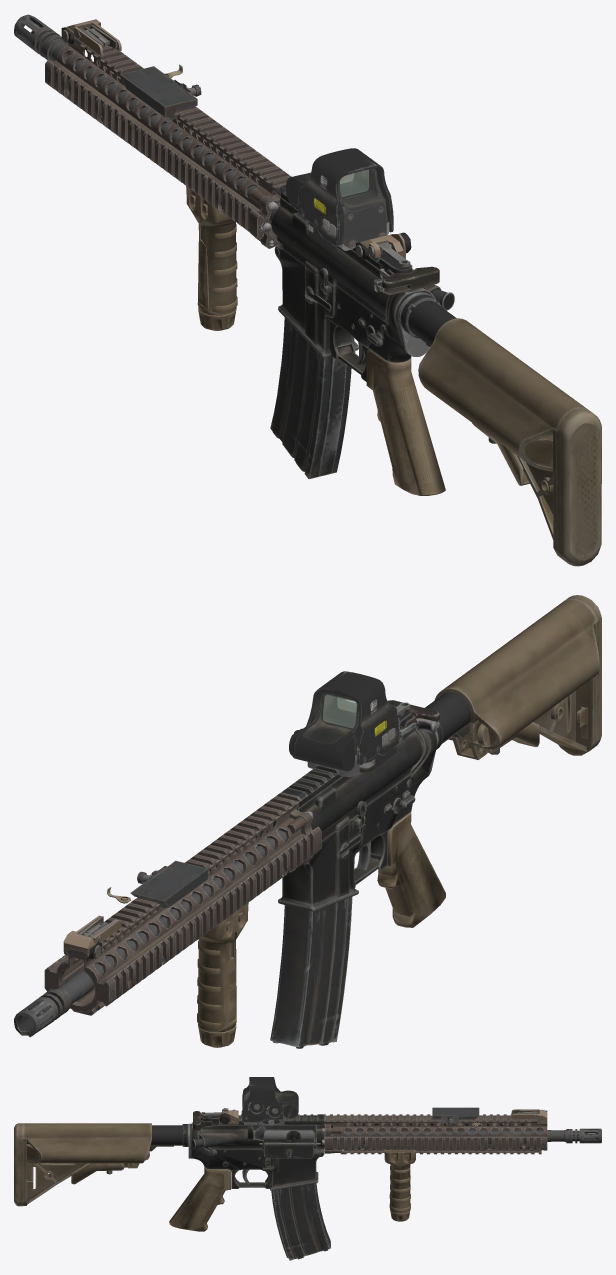
The model's file is m4a1-47K2JQHQ.glb.
3 renders of one model, top to bottom at view 1: azimuth 30°, elevation 25°; view 2: azimuth 150°, elevation 25°; view 3: azimuth 270°, elevation 25°, orthographic. The views are drawn at different scales.
Parts seen in each view (by area): view 1: body, mag; view 2: body, mag; view 3: body, mag.
Part boxes in pixels (x1,y1,x2,y2): body: [14, 14, 601, 566]; mag: [270, 318, 351, 478]; body: [14, 595, 601, 1047]; mag: [270, 896, 352, 1048]; body: [14, 1077, 601, 1231]; mag: [271, 1183, 330, 1260].
Bounding box in the file's own units: 0.0714 × 0.278 × 0.84.
5 materials, 5 textured.
